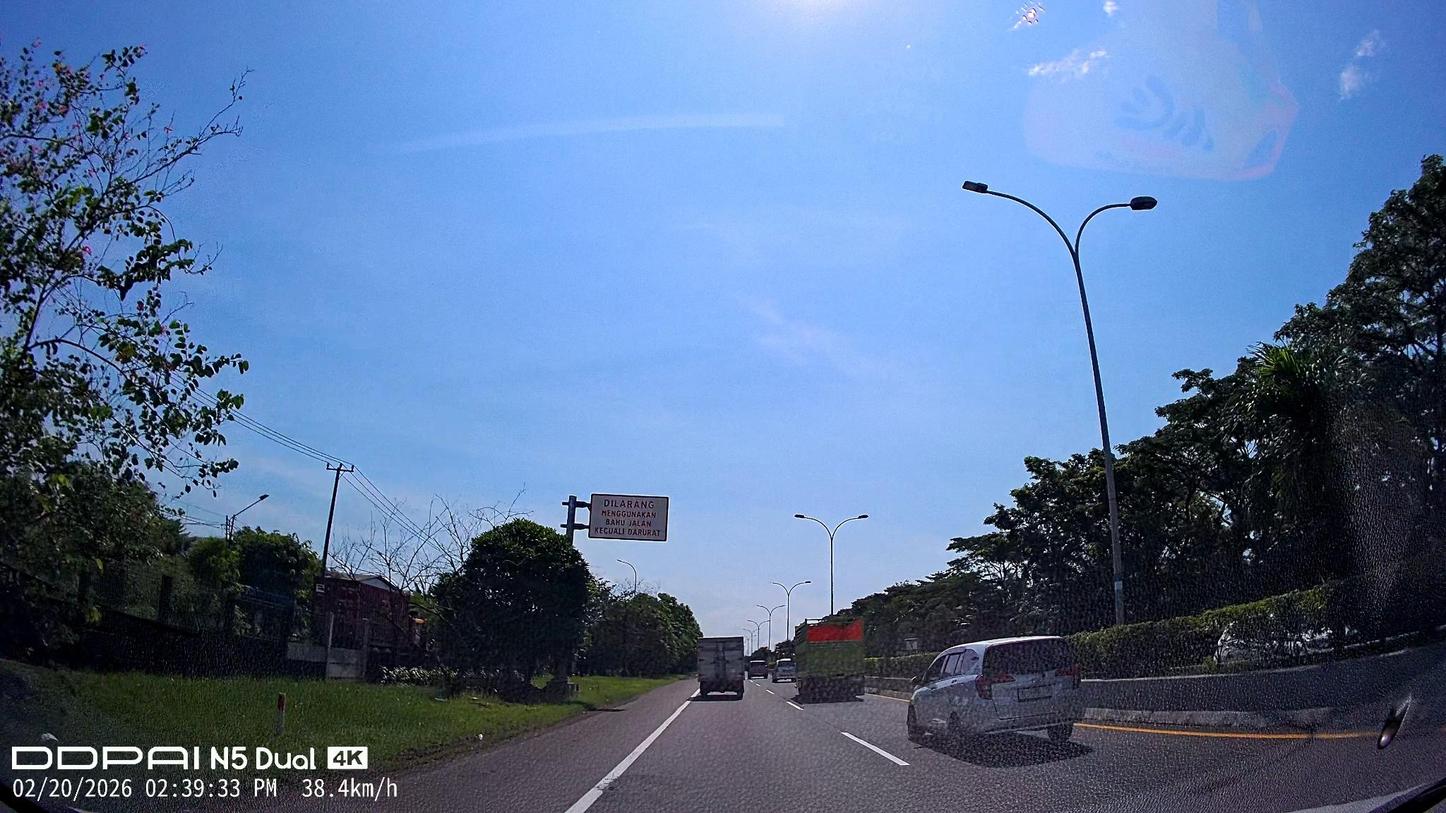rambu_teks: (588, 492, 669, 542)
